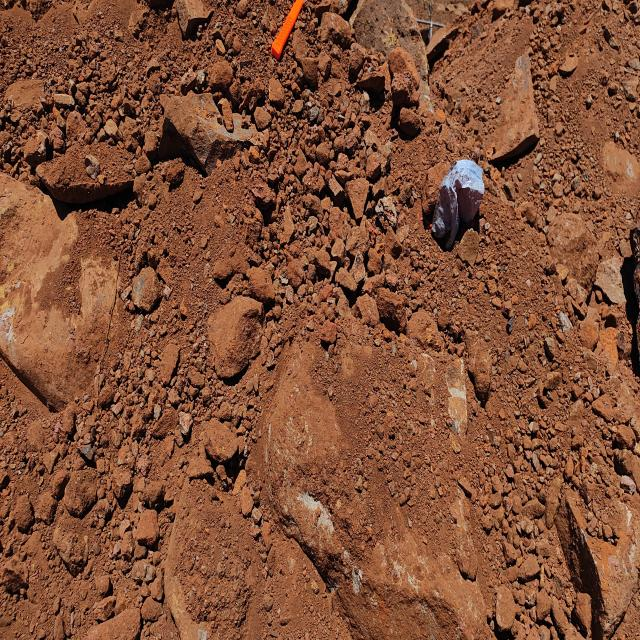Orange_hammer: (270, 0, 304, 61)
